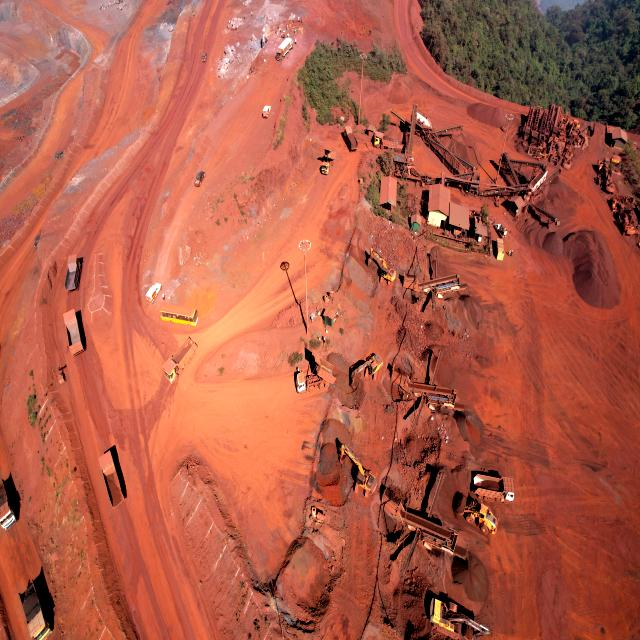Dumper truck: (19, 582, 52, 640), (292, 352, 337, 394), (102, 450, 124, 504), (474, 477, 516, 499), (66, 307, 82, 362), (0, 476, 14, 529), (66, 255, 83, 292), (320, 147, 337, 175), (373, 132, 398, 150), (343, 125, 358, 152)
Excavator: (428, 594, 489, 640), (344, 444, 375, 498), (349, 352, 384, 389), (368, 249, 398, 285)
car: (146, 283, 160, 303), (194, 170, 206, 185), (262, 105, 272, 119), (202, 51, 208, 63)
person: (300, 17, 302, 23), (286, 25, 288, 31), (295, 40, 297, 46), (511, 251, 513, 257), (509, 250, 511, 256)
